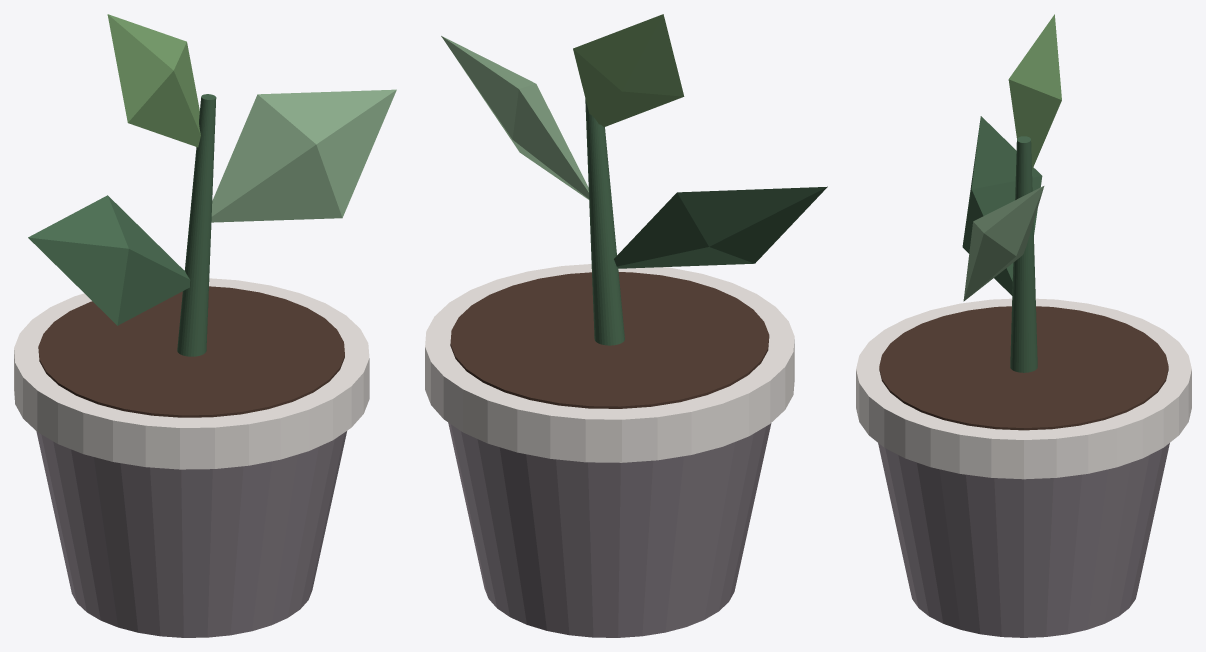
The model's file is pot.glb.
3 views of the same model, side by side, from view 1: azimuth 30°, elevation 25°; view 2: azimuth 150°, elevation 25°; view 3: azimuth 270°, elevation 25° (orthographic). The views are drawn at different scales.
Visible parts, largest first — view 1: ceramic pot, soil, rim, leaf 2, leaf 1, leaf 3, stem; view 2: ceramic pot, soil, rim, leaf 1, leaf 3, leaf 2, stem; view 3: ceramic pot, soil, rim, leaf 3, leaf 2, leaf 1, stem.
Boxes of the visible parts, <box> form: ceramic pot: <box>36,431,346,637</box>; soil: <box>38,286,344,417</box>; rim: <box>14,278,369,469</box>; leaf 2: <box>211,89,396,222</box>; leaf 1: <box>28,195,190,325</box>; leaf 3: <box>107,14,200,147</box>; stem: <box>177,94,216,356</box>; ceramic pot: <box>448,422,771,637</box>; soil: <box>450,272,769,408</box>; rim: <box>425,264,794,462</box>; leaf 1: <box>614,186,827,268</box>; leaf 3: <box>573,14,684,127</box>; leaf 2: <box>441,36,589,199</box>; stem: <box>585,99,624,345</box>; ceramic pot: <box>878,443,1169,637</box>; soil: <box>879,306,1168,430</box>; rim: <box>856,298,1191,479</box>; leaf 3: <box>1008,14,1061,169</box>; leaf 2: <box>963,186,1044,301</box>; leaf 1: <box>962,116,1042,295</box>; stem: <box>1010,136,1037,372</box>.
Size of the model in its own units: 1.31 by 1.95 by 1.09.
